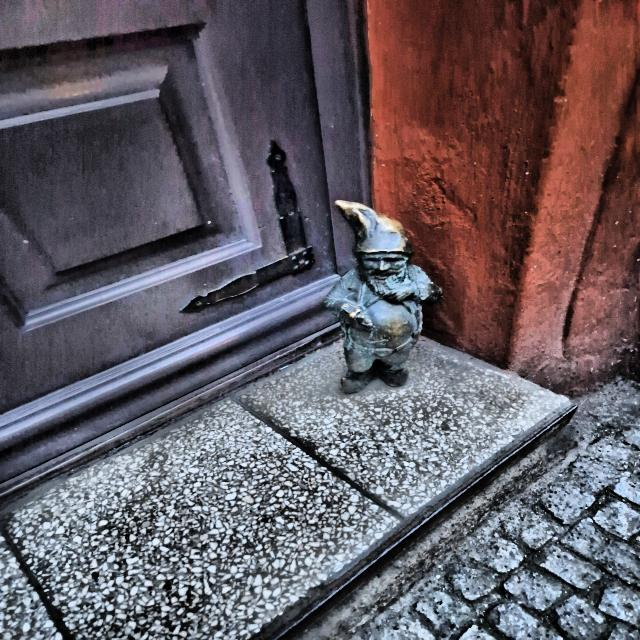TatuazystaKonstanty: (325, 201, 442, 394)
